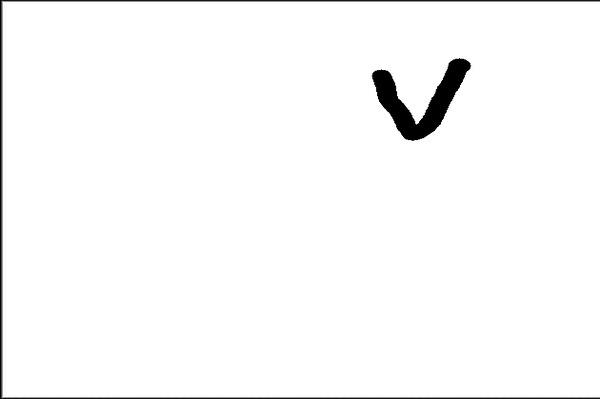V: (368, 47, 476, 145)
